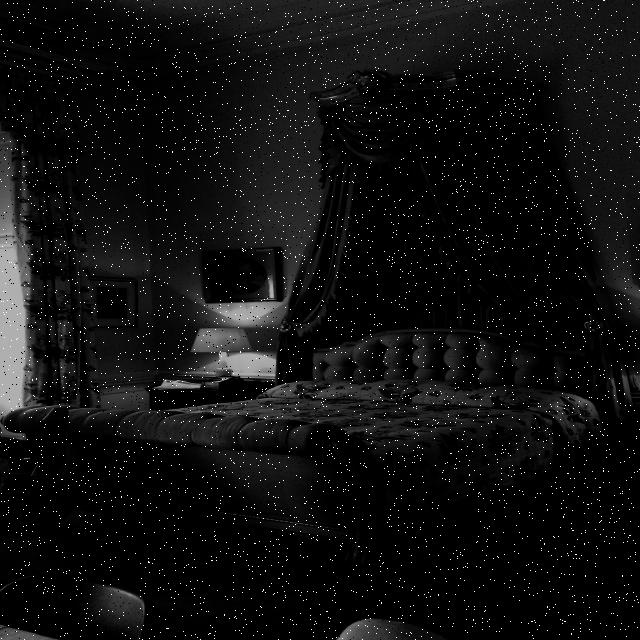bed: (32, 317, 635, 551)
